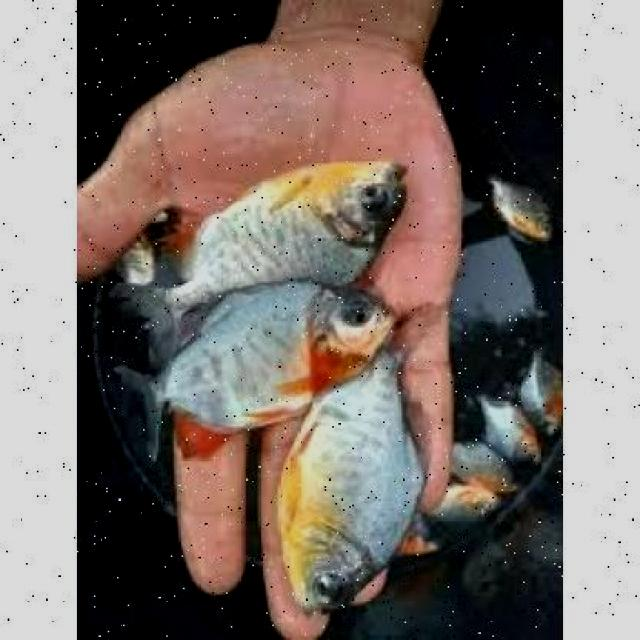ikan-pacu: (276, 344, 426, 604), (140, 284, 402, 426), (152, 156, 396, 296)
